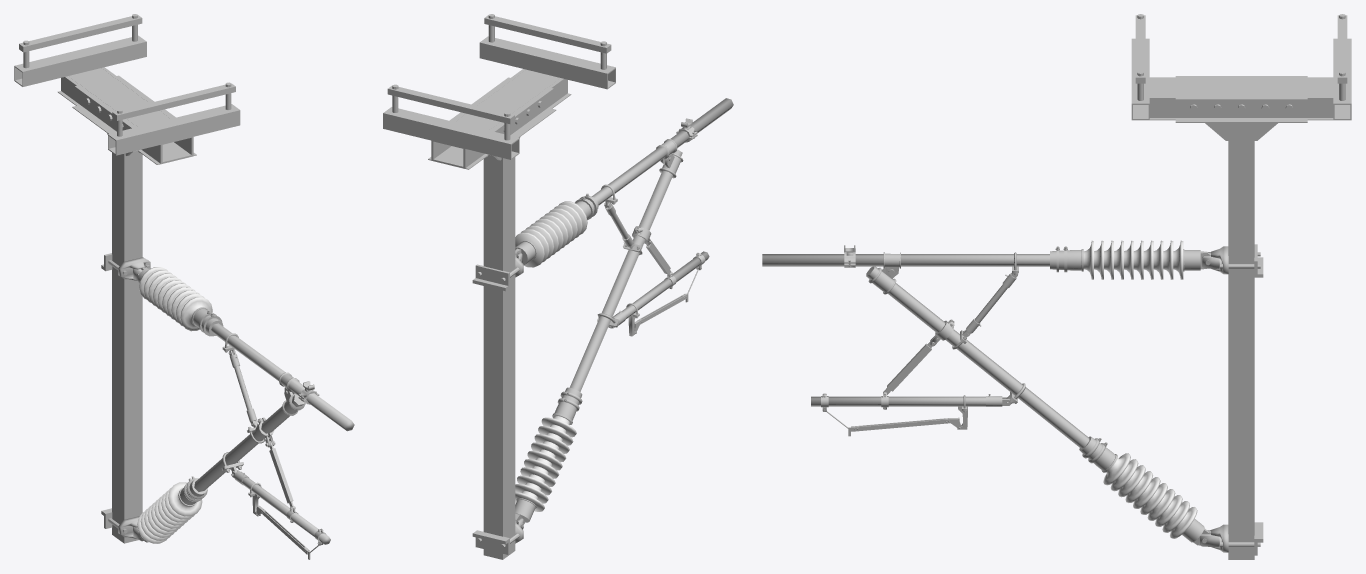
File: gantry_short_single_positive.obj
The picture shows the model from 3 angles, left to right: view 1: azimuth 30°, elevation 25°; view 2: azimuth 150°, elevation 25°; view 3: azimuth 270°, elevation 25°; orthographic projection. The views are drawn at different scales.
Visible parts, largest first — view 1: 立方体.106, 立方体.096, 立方体.098, 立方体.103, 贝塞尔曲线.037, 贝塞尔曲线.036, 立方体.105, 立方体.095, 立方体.097, 立方体.104, 贝塞尔曲线.035, 1.014 (+3 smaller); view 2: 立方体.106, 立方体.098, 立方体.096, 立方体.103, 贝塞尔曲线.036, 贝塞尔曲线.037, 立方体.105, 立方体.097, 立方体.095, 立方体.104, 贝塞尔曲线.035, 立方体.108 (+3 smaller); view 3: 立方体.106, 立方体.103, 贝塞尔曲线.036, 贝塞尔曲线.037, 立方体.105, 贝塞尔曲线.035, 立方体.098, 立方体.096, 立方体.104, 1.015, 1.014, 立方体.097 (+1 smaller).
Part boxes in pixels (bbox=[...]): 立方体.106: bbox=[112, 151, 142, 543]; 立方体.096: bbox=[108, 104, 240, 155]; 立方体.098: bbox=[14, 35, 146, 86]; 立方体.103: bbox=[64, 67, 175, 128]; 贝塞尔曲线.037: bbox=[211, 323, 354, 431]; 贝塞尔曲线.036: bbox=[194, 394, 304, 491]; 立方体.105: bbox=[61, 77, 193, 164]; 立方体.095: bbox=[112, 83, 235, 120]; 立方体.097: bbox=[19, 15, 142, 52]; 立方体.104: bbox=[58, 91, 196, 164]; 贝塞尔曲线.035: bbox=[242, 477, 330, 544]; 1.014: bbox=[108, 257, 150, 280]; 立方体.106: bbox=[483, 155, 515, 559]; 立方体.098: bbox=[383, 107, 519, 159]; 立方体.096: bbox=[479, 36, 615, 89]; 立方体.103: bbox=[449, 69, 564, 131]; 贝塞尔曲线.036: bbox=[570, 149, 682, 391]; 贝塞尔曲线.037: bbox=[592, 98, 733, 205]; 立方体.105: bbox=[431, 79, 567, 168]; 立方体.097: bbox=[387, 85, 514, 124]; 立方体.095: bbox=[484, 15, 611, 53]; 立方体.104: bbox=[428, 93, 571, 169]; 贝塞尔曲线.035: bbox=[620, 251, 709, 319]; 立方体.108: bbox=[472, 264, 509, 291]; 立方体.106: bbox=[1228, 123, 1254, 559]; 立方体.103: bbox=[1149, 76, 1333, 99]; 贝塞尔曲线.036: bbox=[866, 266, 1089, 448]; 贝塞尔曲线.037: bbox=[762, 254, 1049, 266]; 立方体.105: bbox=[1149, 99, 1333, 117]; 贝塞尔曲线.035: bbox=[811, 396, 985, 406]; 立方体.098: bbox=[1333, 38, 1351, 120]; 立方体.096: bbox=[1131, 38, 1149, 120]; 立方体.104: bbox=[1149, 118, 1333, 122]; 1.015: bbox=[1200, 524, 1260, 552]; 1.014: bbox=[1202, 246, 1260, 274]; 立方体.097: bbox=[1337, 15, 1347, 83].
Bounding box in the file's own units: 0.9365 × 3.42 × 3.57.
